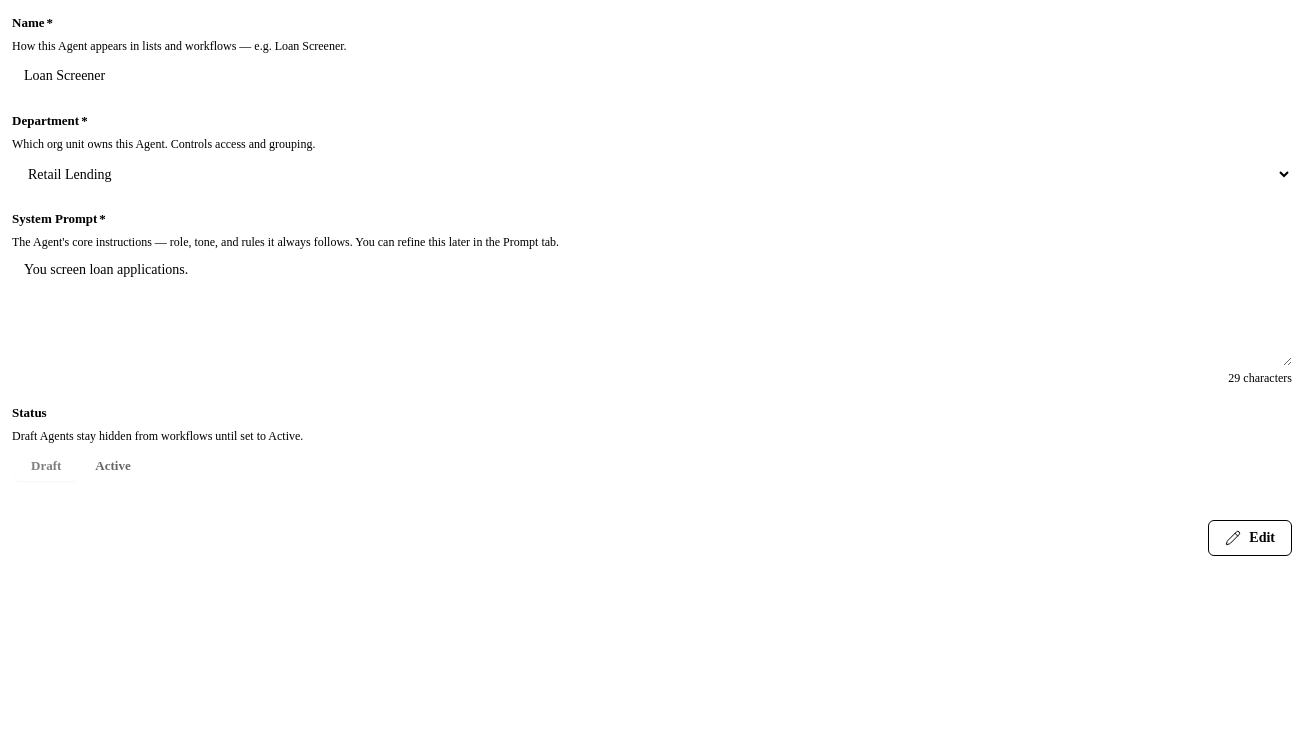
IdentityTab › shows inline error on blur when Department is cleared
Select "Select a Department" in the dropdown labelled "Department". click: (652, 174)
box: [12, 156, 1292, 192]
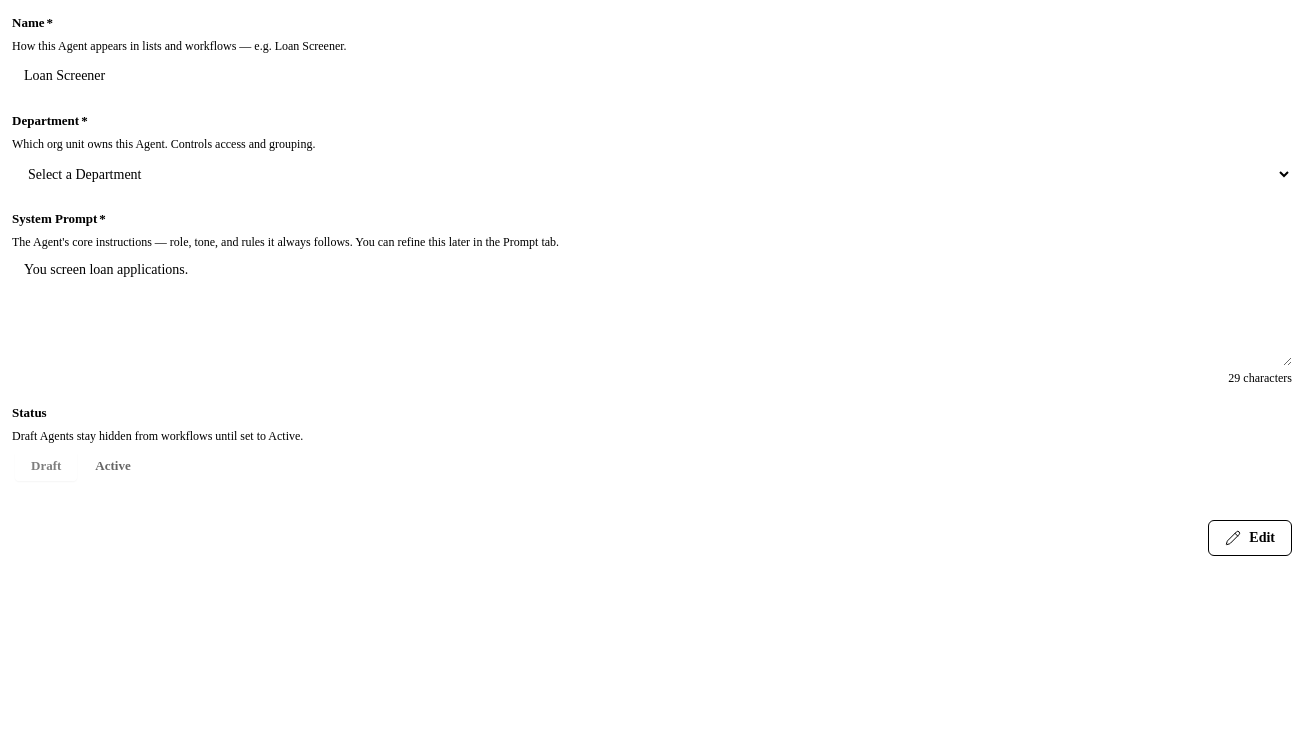
Expected: the text "Department is required" is not shown
Leave the dropdown labelled "Department", box [12, 156, 1292, 192]
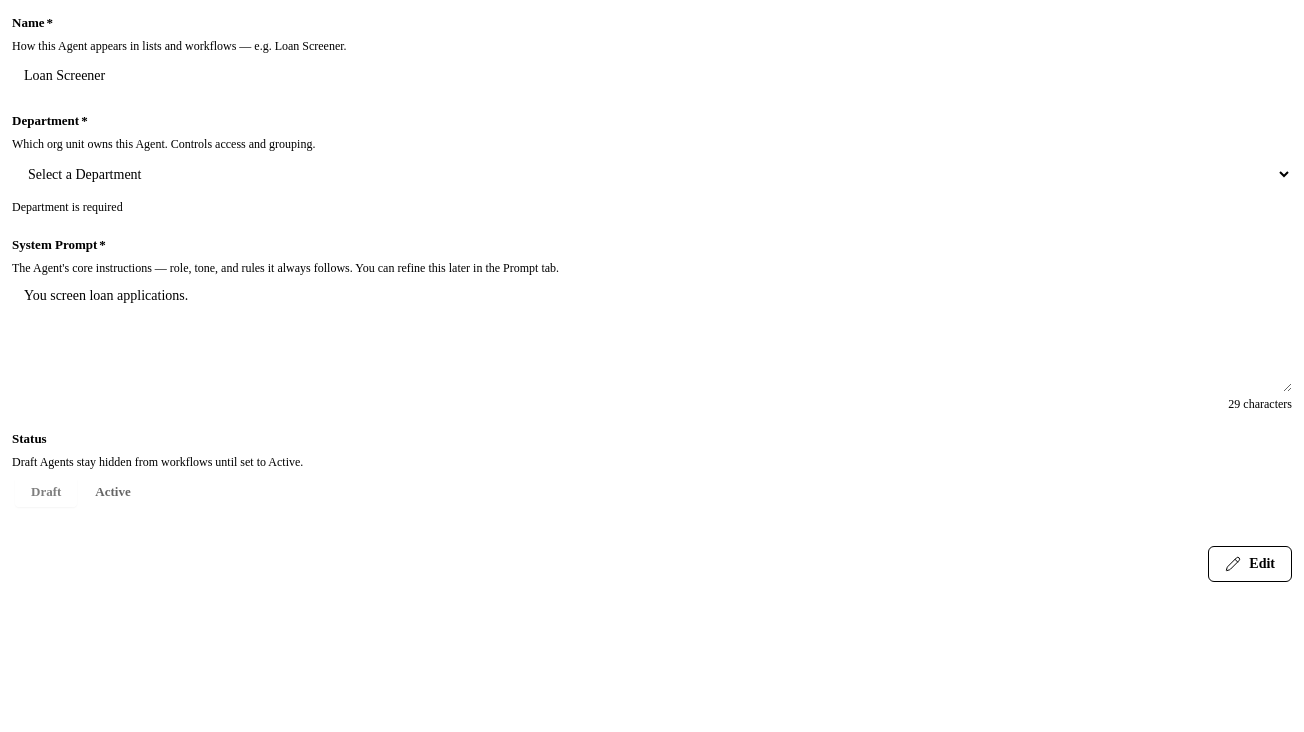
Expected: the text "Department is required" is shown, [12, 200, 123, 214]
